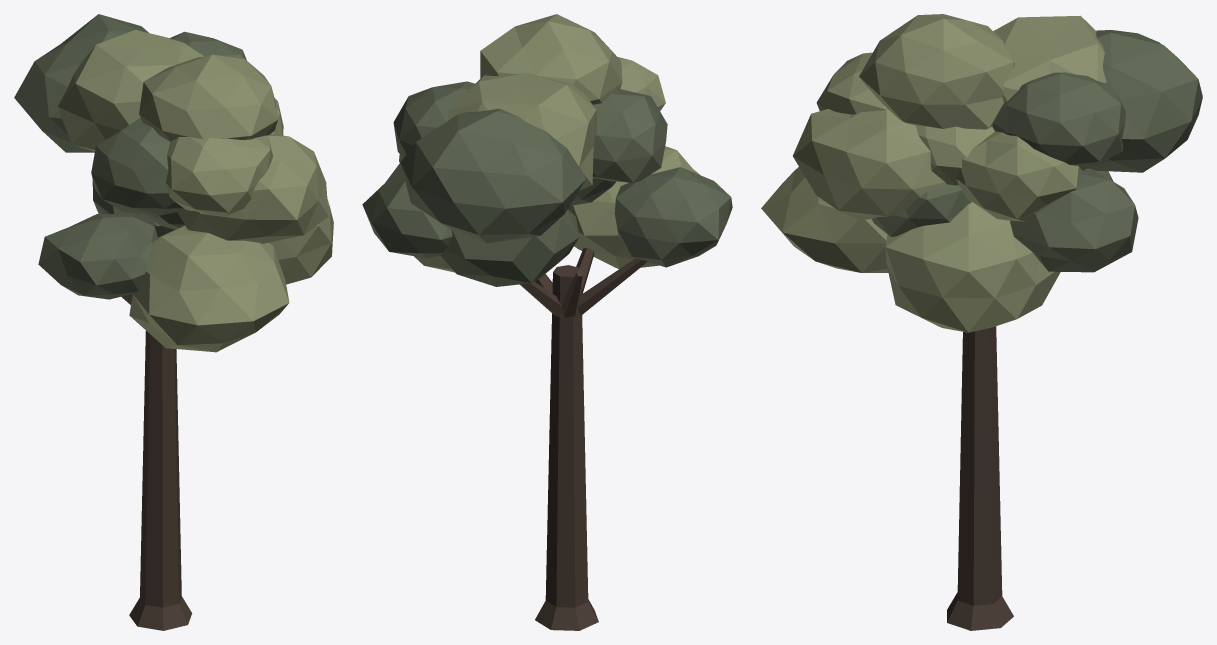
Rendered from tree_bank_alder.fbx.
3 renders of one model, left to right at view 1: azimuth 30°, elevation 25°; view 2: azimuth 150°, elevation 25°; view 3: azimuth 270°, elevation 25°, orthographic. The views are drawn at different scales.
Parts seen in each view (by area): view 1: tree_bank_alder; view 2: tree_bank_alder; view 3: tree_bank_alder.
Part boxes in pixels (left/top/right/bottom): tree_bank_alder: left=14, top=14, right=333, bottom=630; tree_bank_alder: left=362, top=14, right=732, bottom=630; tree_bank_alder: left=761, top=14, right=1202, bottom=630.
Bounding box in the file's own units: 2.85 × 3.4 × 5.23.
